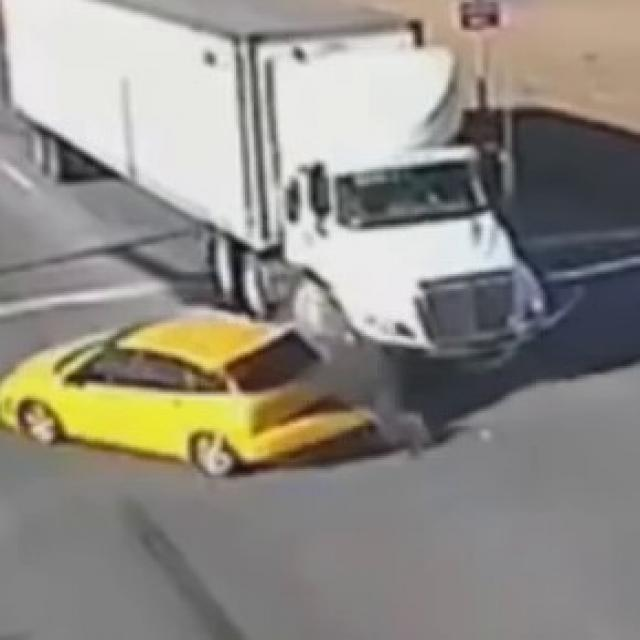accident: (1, 225, 526, 503)
